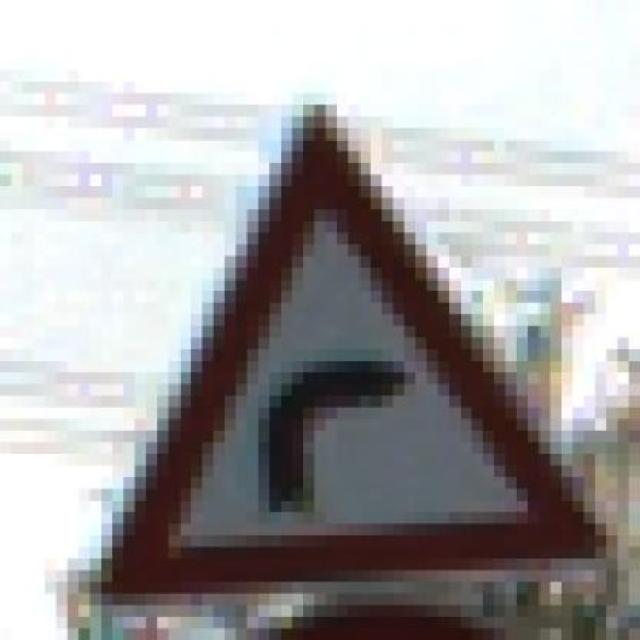Dangerous Rright Curve Ahead: (67, 70, 618, 605)
